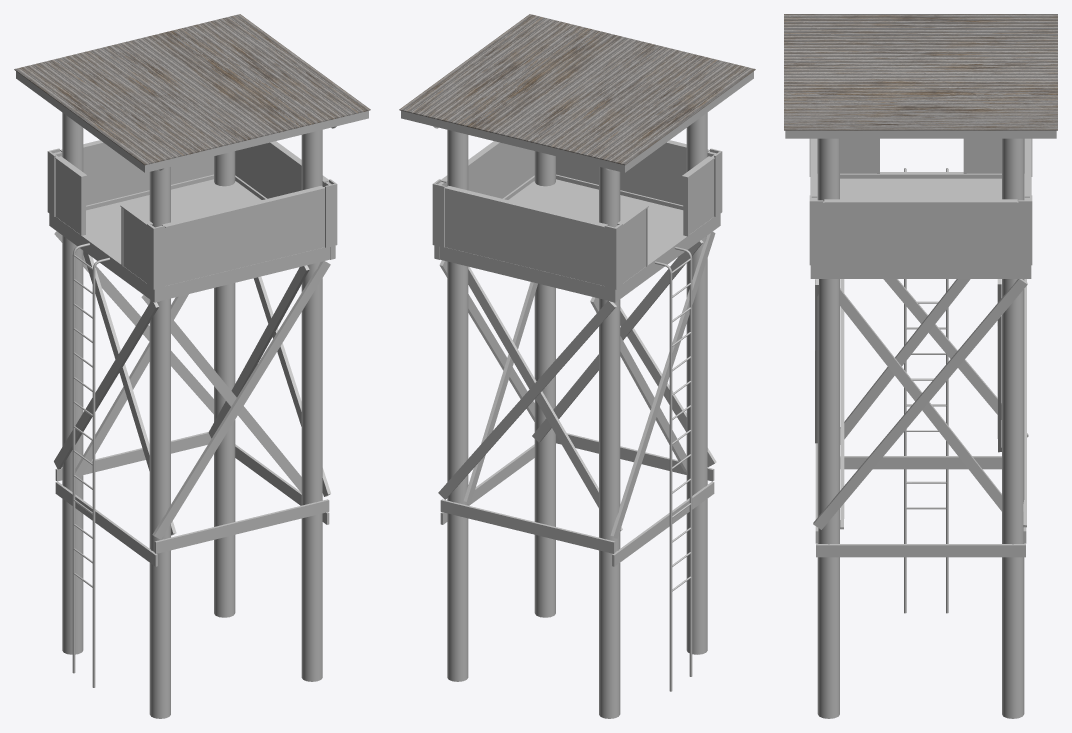
The model's file is Guard_Tower1.fbx.
3 views of the same model, side by side, from view 1: azimuth 30°, elevation 25°; view 2: azimuth 150°, elevation 25°; view 3: azimuth 270°, elevation 25° (orthographic). The views are drawn at different scales.
Parts seen in each view (by area): view 1: polySurface88; view 2: polySurface88; view 3: polySurface88.
Part boxes in pixels (bbox=[...]): polySurface88: bbox=[14, 14, 370, 718]; polySurface88: bbox=[399, 14, 755, 718]; polySurface88: bbox=[784, 14, 1057, 718].
Bounding box in the file's own units: 5.17 × 12.57 × 5.17.
